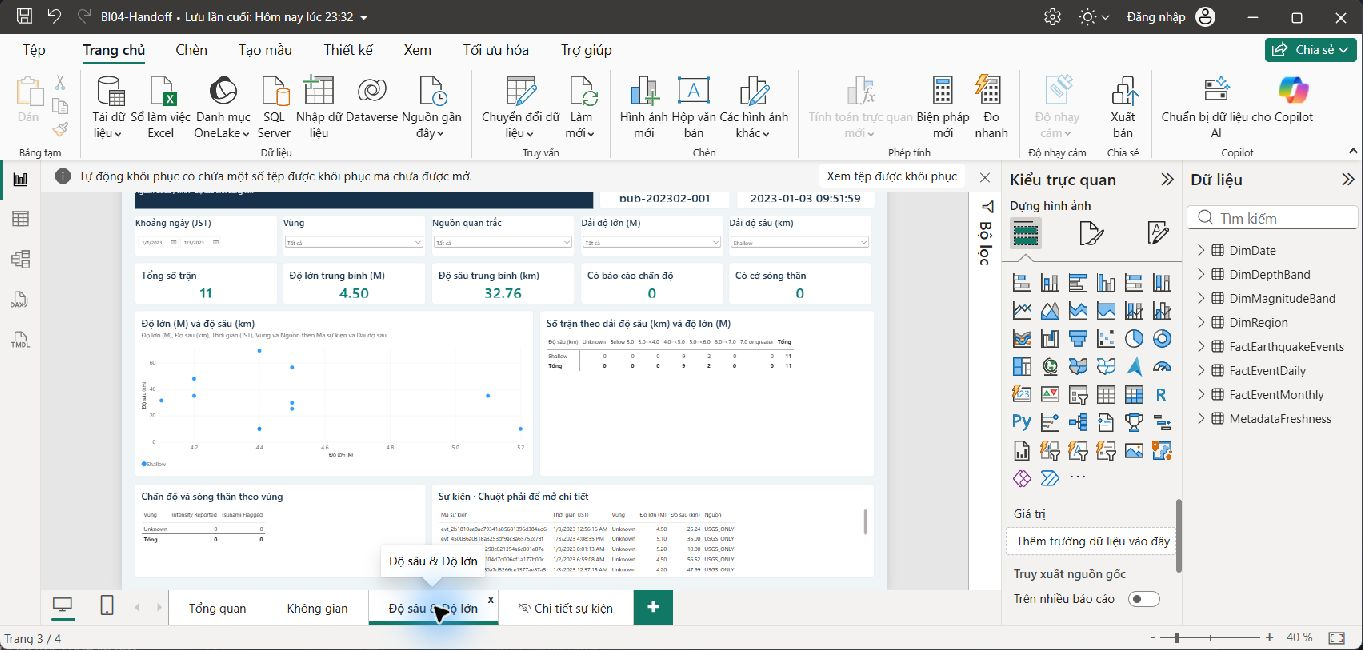

What the dashboard file says about the page in this screenshot:
{"tool":"powerbi","page":{"name":"Độ sâu & Độ lớn","canvas":[1920,1080],"ordinal":2},"visuals":[{"type":"slicer","title":"Khoảng ngày (JST)","fields":{"Values":["DimDate.calendar_date"]},"box":[32,140,358,102],"z":1000},{"type":"slicer","title":"Vùng","fields":{"Values":["DimRegion.region_name"]},"box":[405,140,358,102],"z":2000},{"type":"slicer","title":"Nguồn quan trắc","fields":{"Values":["FactEarthquakeEvents.source_coverage_code"]},"box":[778,140,358,102],"z":3000},{"type":"slicer","title":"Dải độ lớn (M)","fields":{"Values":["DimMagnitudeBand.band_label"]},"box":[1151,140,358,102],"z":4000},{"type":"slicer","title":"Dải độ sâu (km)","fields":{"Values":["DimDepthBand.band_label"]},"box":[1524,140,358,102],"z":5000},{"type":"textbox","box":[32,24,1150,98],"z":6000},{"type":"card","title":"Publication Gold","fields":{"Values":["MetadataFreshness.Gold Publication"]},"box":[1200,24,326,98],"z":7000},{"type":"card","title":"Sự kiện mới nhất (UTC)","fields":{"Values":["MetadataFreshness.Data Freshness (UTC)"]},"box":[1542,24,346,98],"z":8000},{"type":"card","title":"Tổng số trận","fields":{"Values":["FactEarthquakeEvents.Total Earthquakes"]},"box":[32,258,358,105],"z":9000},{"type":"card","title":"Độ lớn trung bình (M)","fields":{"Values":["FactEarthquakeEvents.Average Magnitude"]},"box":[405,258,358,105],"z":10000},{"type":"card","title":"Độ sâu trung bình (km)","fields":{"Values":["FactEarthquakeEvents.Average Depth (km)"]},"box":[778,258,358,105],"z":11000},{"type":"card","title":"Có báo cáo chấn độ","fields":{"Values":["FactEarthquakeEvents.Intensity Reported"]},"box":[1151,258,358,105],"z":12000},{"type":"card","title":"Có cờ sóng thần","fields":{"Values":["FactEarthquakeEvents.Tsunami Flagged"]},"box":[1524,258,358,105],"z":13000},{"type":"scatterChart","title":"Độ lớn (M) và độ sâu (km)","fields":{"Category":["FactEarthquakeEvents.canonical_event_id"],"Series":["DimDepthBand.band_label"],"X":["Aggregation1(FactEarthquakeEvents.magnitude)"],"Y":["Aggregation1(FactEarthquakeEvents.depth_km)"]},"box":[32,380,1000,416],"z":14000},{"type":"pivotTable","title":"Số trận theo dải độ sâu (km) và độ lớn (M)","fields":{"Columns":["DimMagnitudeBand.band_label"],"Rows":["DimDepthBand.band_label"],"Values":["FactEarthquakeEvents.Total Earthquakes"]},"box":[1048,380,840,416],"z":15000},{"type":"tableEx","title":"Chấn độ và sóng thần theo vùng","fields":{"Values":["DimRegion.region_name","FactEarthquakeEvents.Intensity Reported","FactEarthquakeEvents.Tsunami Flagged"]},"box":[32,812,730,236],"z":16000},{"type":"tableEx","title":"Sự kiện · Chuột phải để mở chi tiết","fields":{"Values":["FactEarthquakeEvents.canonical_event_id","FactEarthquakeEvents.event_time_jst","FactEarthquakeEvents.region_name","FactEarthquakeEvents.magnitude","FactEarthquakeEvents.depth_km","FactEarthquakeEvents.source_coverage_code"]},"box":[778,812,1110,236],"z":17000}]}

Visuals, with their boxes on the page's 1920x1080 design canvas (x1, y1, x2, y2). These are canvas units, not pixel positions in the 1363x650 screenshot, which may show the page scaled, cropped or inside an application window:
"Khoảng ngày (JST)" slicer: bbox=(32, 140, 390, 242)
"Vùng" slicer: bbox=(405, 140, 763, 242)
"Nguồn quan trắc" slicer: bbox=(778, 140, 1136, 242)
"Dải độ lớn (M)" slicer: bbox=(1151, 140, 1509, 242)
"Dải độ sâu (km)" slicer: bbox=(1524, 140, 1882, 242)
textbox: bbox=(32, 24, 1182, 122)
"Publication Gold" card: bbox=(1200, 24, 1526, 122)
"Sự kiện mới nhất (UTC)" card: bbox=(1542, 24, 1888, 122)
"Tổng số trận" card: bbox=(32, 258, 390, 363)
"Độ lớn trung bình (M)" card: bbox=(405, 258, 763, 363)
"Độ sâu trung bình (km)" card: bbox=(778, 258, 1136, 363)
"Có báo cáo chấn độ" card: bbox=(1151, 258, 1509, 363)
"Có cờ sóng thần" card: bbox=(1524, 258, 1882, 363)
"Độ lớn (M) và độ sâu (km)" scatterChart: bbox=(32, 380, 1032, 796)
"Số trận theo dải độ sâu (km) và độ lớn (M)" pivotTable: bbox=(1048, 380, 1888, 796)
"Chấn độ và sóng thần theo vùng" tableEx: bbox=(32, 812, 762, 1048)
"Sự kiện · Chuột phải để mở chi tiết" tableEx: bbox=(778, 812, 1888, 1048)
